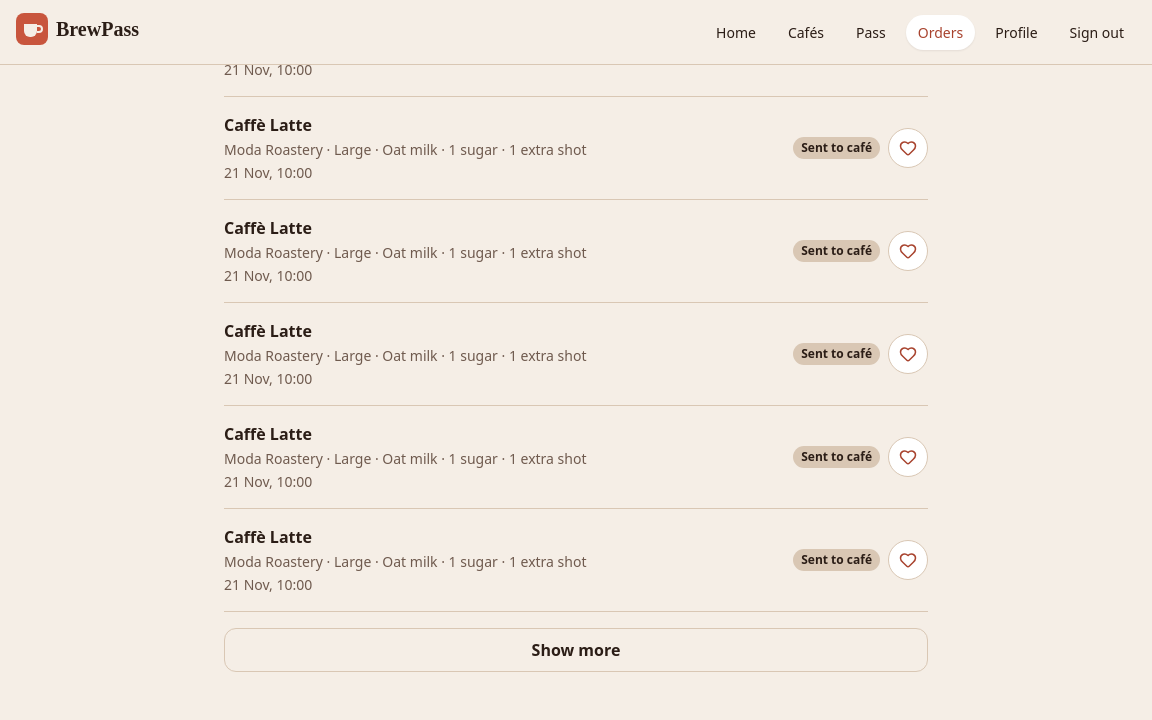
Test case: order history › loads more orders
(page scrolled)
Click the button "Show more" at (576, 650), box [224,628,928,672]
(page scrolled)
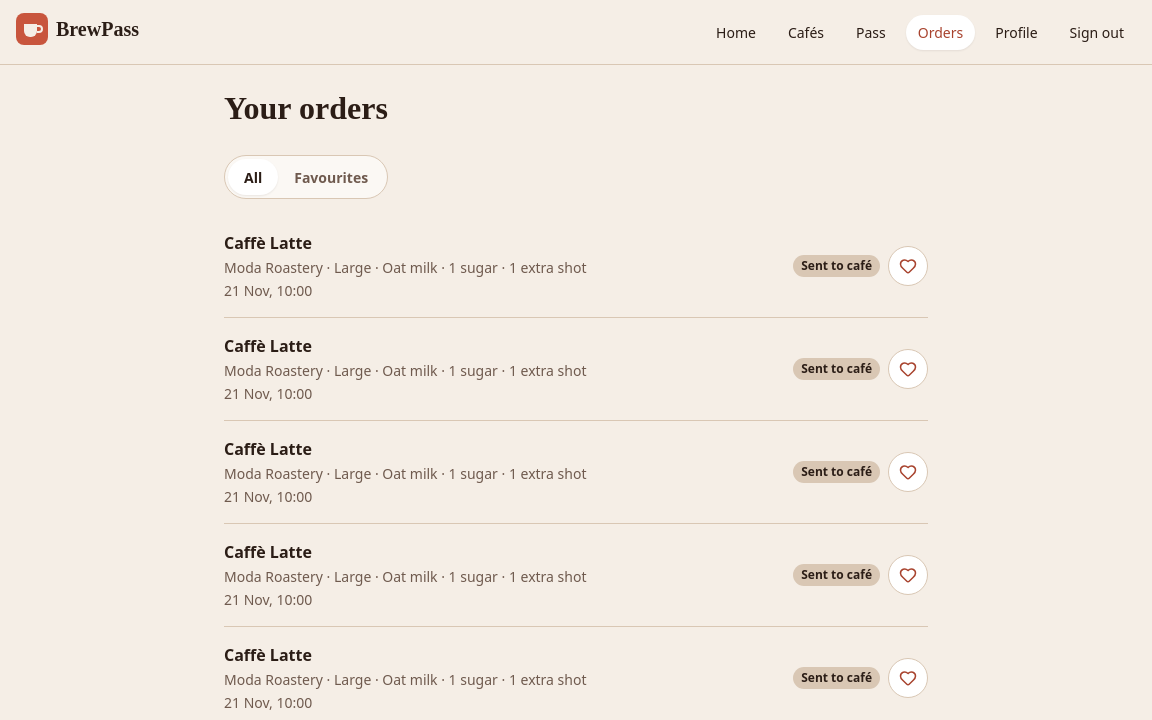
Now the number of list items is 12
Now the button "Show more" is gone
